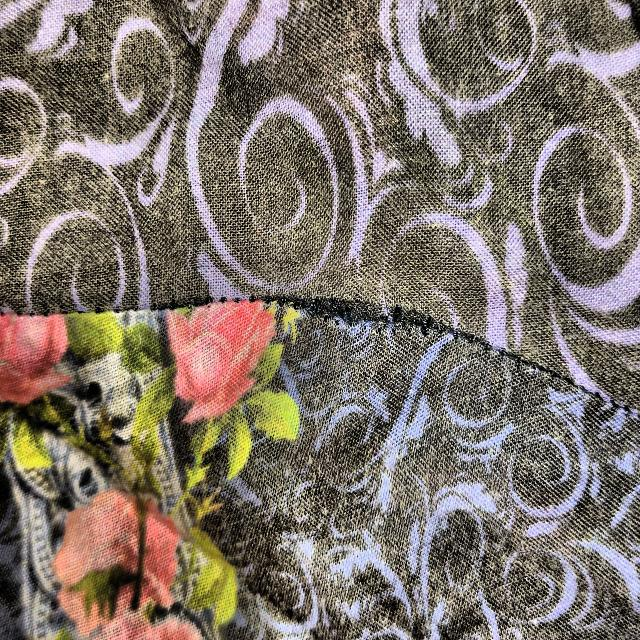seam: (209, 291, 484, 356)
